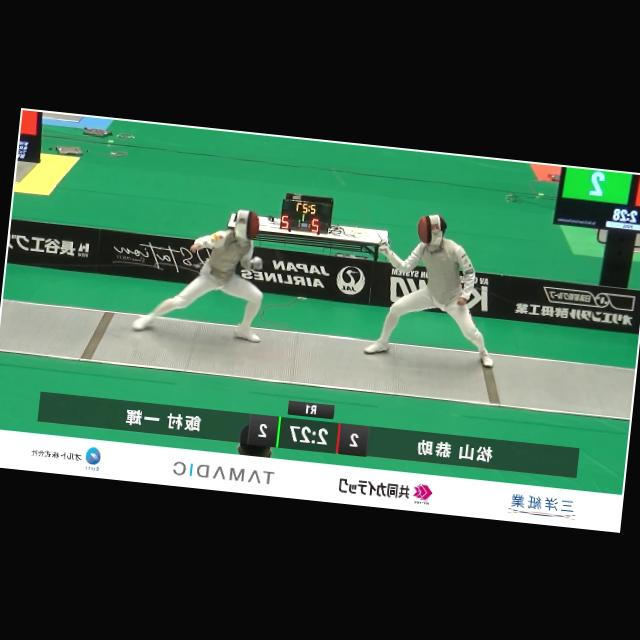blade: (319, 162, 396, 255)
